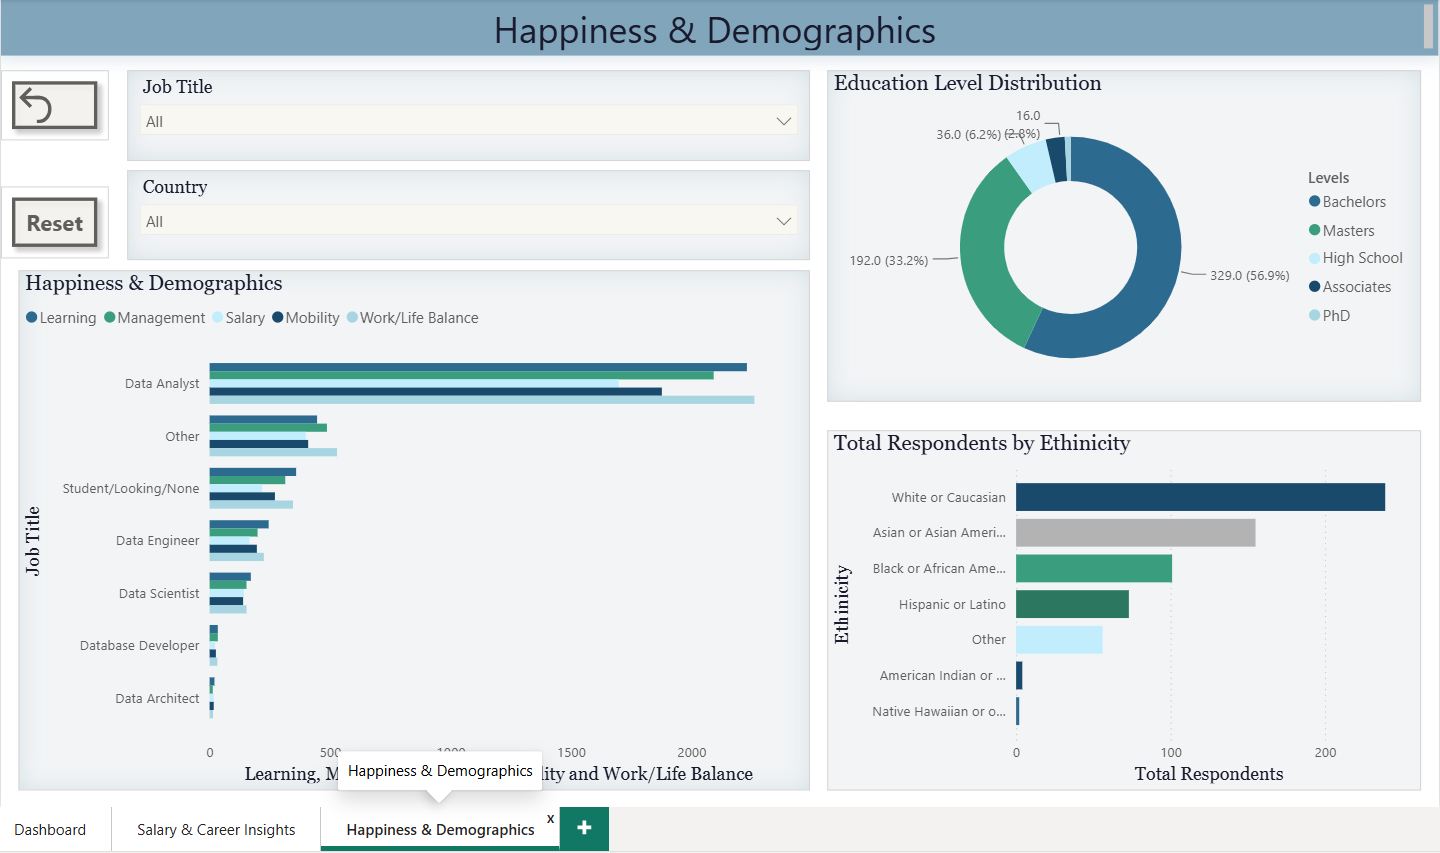

The dashboard page shown, as its layout file describes it:
{"tool":"powerbi","page":{"name":"Happiness & Demographics","canvas":[1280,720],"ordinal":2},"visuals":[{"type":"clusteredBarChart","title":"Happiness & Demographics","fields":{"Y":["Sum(Data Professional Survey.Q6 - How Happy are you in your Current Position with the following? (Learning New Things))","Sum(Data Professional Survey.Q6 - How Happy are you in your Current Position with the following? (Management))","Sum(Data Professional Survey.Q6 - How Happy are you in your Current Position with the following? (Salary))","Sum(Data Professional Survey.Q6 - How Happy are you in your Current Position with the following? (Upward Mobility))","Sum(Data Professional Survey.Q6 - How Happy are you in your Current Position with the following? (Work/Life Balance))"],"Category":["Data Professional Survey.Q1 - Which Title Best Fits your Current Role?"]},"box":[15.7,241.3,704.6,463.3],"z":0},{"type":"donutChart","title":"Education Level Distribution","fields":{"Y":["CountNonNull(Data Professional Survey.Q12 - Highest Level of Education)"],"Category":["Data Professional Survey.Q12 - Highest Level of Education"]},"box":[735.9,63.9,528.4,295.6],"z":1000},{"type":"barChart","fields":{"Y":["CountNonNull(Data Professional Survey.Q1 - Which Title Best Fits your Current Role?)"],"Category":["Data Professional Survey.Q13 - Ethnicity.1"]},"box":[735.9,383.6,528.4,320.9],"z":2000},{"type":"slicer","fields":{"Values":["Data Professional Survey.Q1 - Which Title Best Fits your Current Role?"]},"box":[112.2,63.9,608,80.8],"z":3000},{"type":"slicer","fields":{"Values":["Data Professional Survey.Q11 - Which Country do you live in?.1"]},"box":[112.2,152,608,79.6],"z":4000},{"type":"actionButton","box":[0,167,96,64],"z":5000},{"type":"actionButton","box":[0,64,96,62.6],"z":6000},{"type":"textbox","box":[0,0,1280,50.7],"z":7000}]}

Visuals, with their boxes on the page's 1280x720 design canvas (x1, y1, x2, y2). These are canvas units, not pixel positions in the 1440x853 screenshot, which may show the page scaled, cropped or inside an application window:
"Happiness & Demographics" clusteredBarChart: {"left": 16, "top": 241, "right": 720, "bottom": 705}
"Education Level Distribution" donutChart: {"left": 736, "top": 64, "right": 1264, "bottom": 360}
barChart - CountNonNull(Data Professional Survey.Q1 - Which Title Best Fits your Current Role?) x Data Professional Survey.Q13 - Ethnicity.1: {"left": 736, "top": 384, "right": 1264, "bottom": 704}
slicer - Data Professional Survey.Q1 - Which Title Best Fits your Current Role?: {"left": 112, "top": 64, "right": 720, "bottom": 145}
slicer - Data Professional Survey.Q11 - Which Country do you live in?.1: {"left": 112, "top": 152, "right": 720, "bottom": 232}
actionButton: {"left": 0, "top": 167, "right": 96, "bottom": 231}
actionButton: {"left": 0, "top": 64, "right": 96, "bottom": 127}
textbox: {"left": 0, "top": 0, "right": 1280, "bottom": 51}
